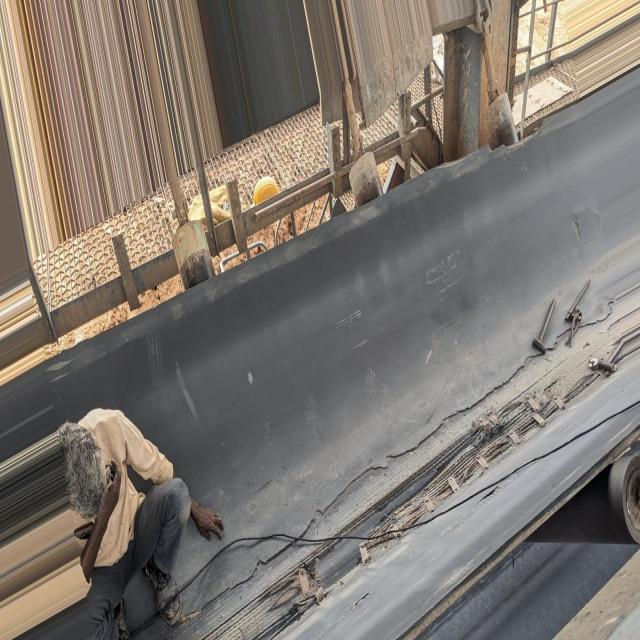Human: (67, 407, 225, 640)
Other Objects: (565, 279, 590, 346), (531, 301, 556, 354)
Roller: (529, 453, 640, 545), (170, 221, 216, 291), (348, 151, 385, 209)
Tear: (192, 321, 602, 640)
